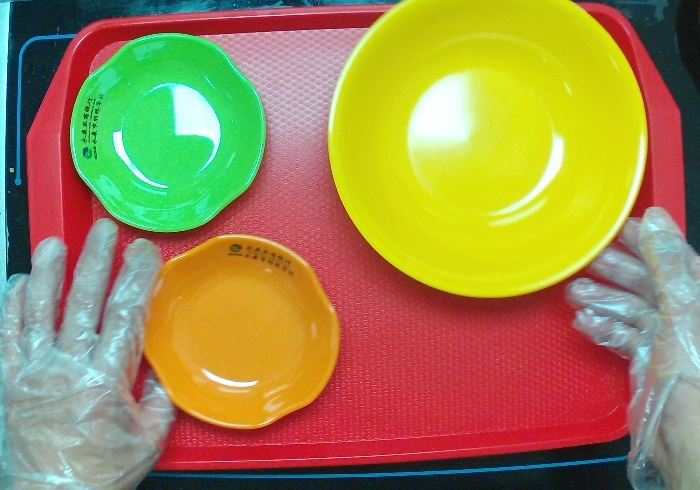YKMZ-Huang_Se_Tang_Wan: (326, 1, 650, 300)
YKMZ-Ju_Se_Ao_Bian_Wan: (141, 231, 343, 431)
YKMZ-Lv_Se_Ao_Bian_Wan: (68, 31, 268, 233)
